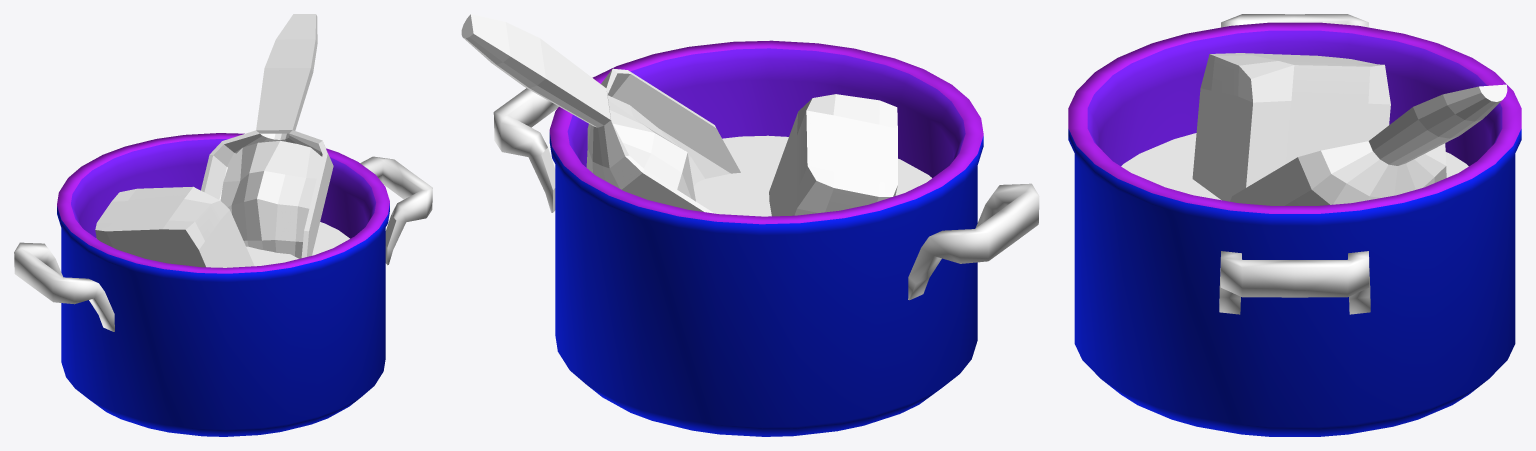
Rendered from RawCremeFillingPot.fbx.
3 renders of one model, left to right at view 1: azimuth 30°, elevation 25°; view 2: azimuth 150°, elevation 25°; view 3: azimuth 270°, elevation 25°, orthographic. The views are drawn at different scales.
Visible parts, largest first — view 1: Cylinder, Butter, Scoop, Sugar, Cylinder_003, Milk; view 2: Cylinder, Scoop, Butter, Cylinder_003, Milk, Sugar; view 3: Cylinder, Butter, Scoop, Cylinder_003, Milk.
Boxes of the visible parts, bbox=[...] form: Cylinder: bbox=[57, 133, 389, 436]; Butter: bbox=[95, 186, 254, 267]; Scoop: bbox=[201, 14, 333, 257]; Sugar: bbox=[220, 140, 321, 258]; Cylinder_003: bbox=[14, 156, 432, 331]; Milk: bbox=[246, 222, 349, 266]; Cylinder: bbox=[549, 40, 983, 436]; Scoop: bbox=[461, 14, 740, 213]; Butter: bbox=[769, 94, 897, 216]; Cylinder_003: bbox=[493, 88, 1039, 300]; Milk: bbox=[693, 135, 931, 216]; Sugar: bbox=[607, 95, 704, 201]; Cylinder: bbox=[1068, 22, 1521, 436]; Butter: bbox=[1192, 53, 1390, 201]; Scoop: bbox=[1230, 84, 1507, 205]; Cylinder_003: bbox=[1219, 14, 1370, 314]; Milk: bbox=[1121, 133, 1468, 200].
Size of the model in its own units: 83.38 by 60.28 by 62.94.
